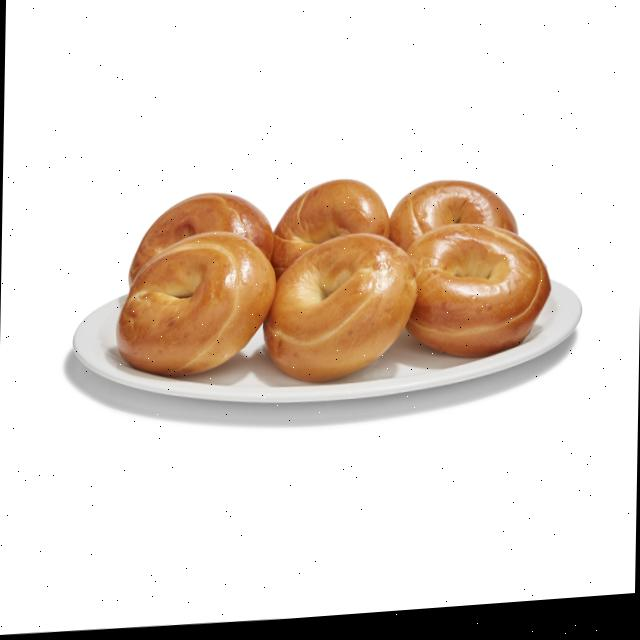Bagel: (116, 235, 275, 379), (263, 238, 416, 386), (406, 230, 550, 364), (128, 196, 274, 286), (271, 184, 390, 283), (390, 187, 517, 257)
